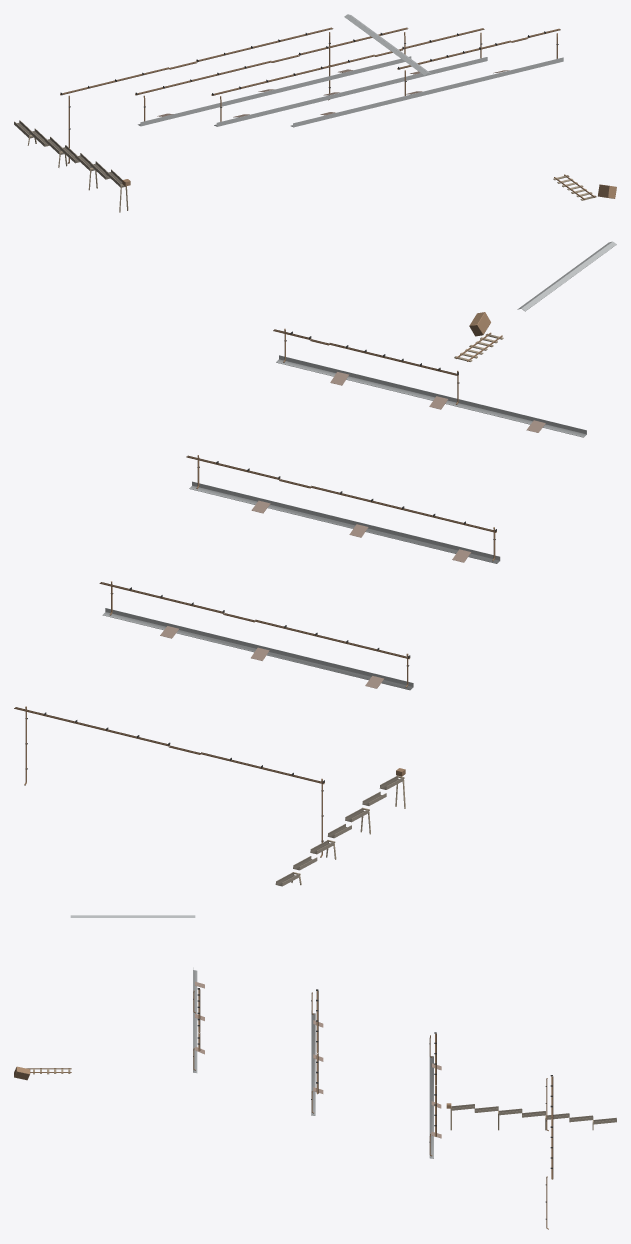
The model's file is mill_exterior.glb.
3 views of the same model, one above another, from view 1: azimuth 30°, elevation 25°; view 2: azimuth 150°, elevation 25°; view 3: azimuth 270°, elevation 25° (orthographic). The views are drawn at different scales.
Visible parts, largest first — view 1: static; view 2: static; view 3: static.
Part boxes in pixels (x1,y1,x2,y2): static: (14, 14, 616, 212); static: (14, 241, 616, 886); static: (14, 915, 616, 1229).
Bounding box in the file's own units: 21.1 × 22 × 51.
